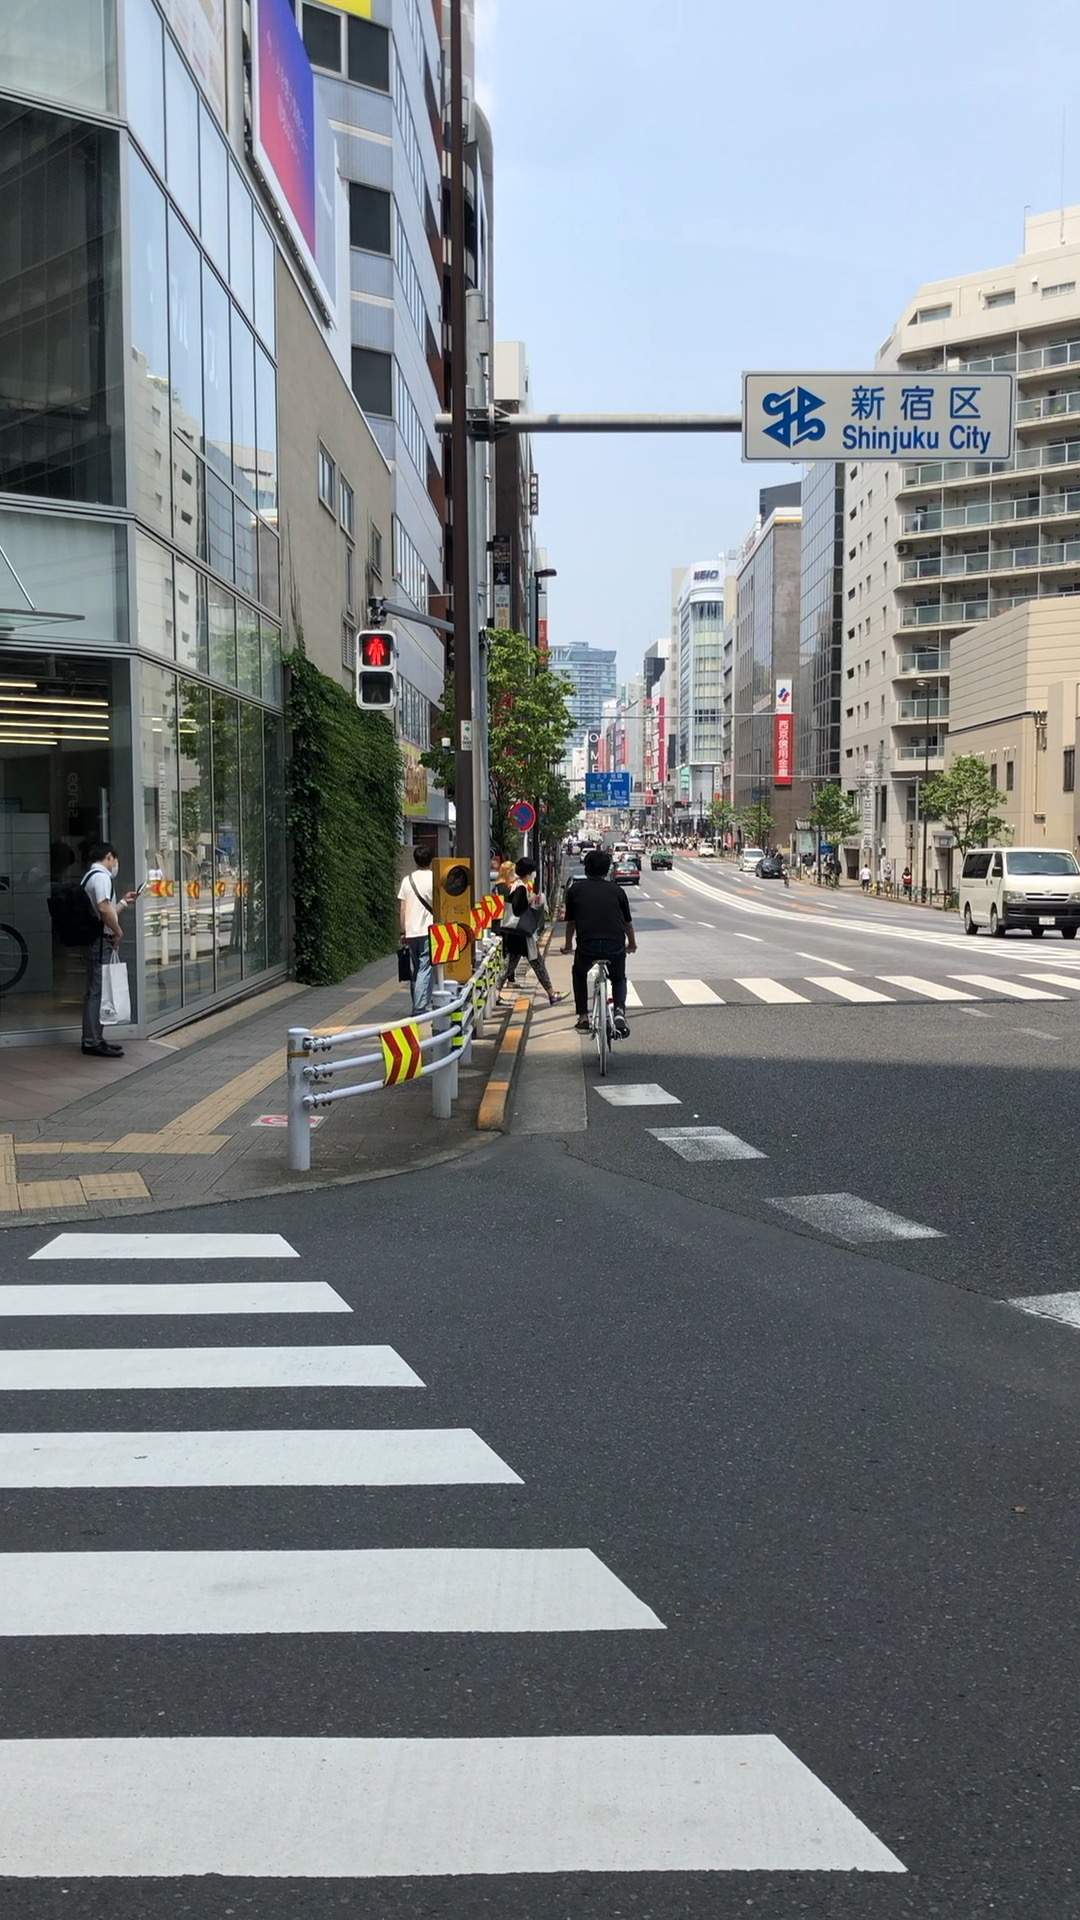red: (353, 630, 396, 709)
